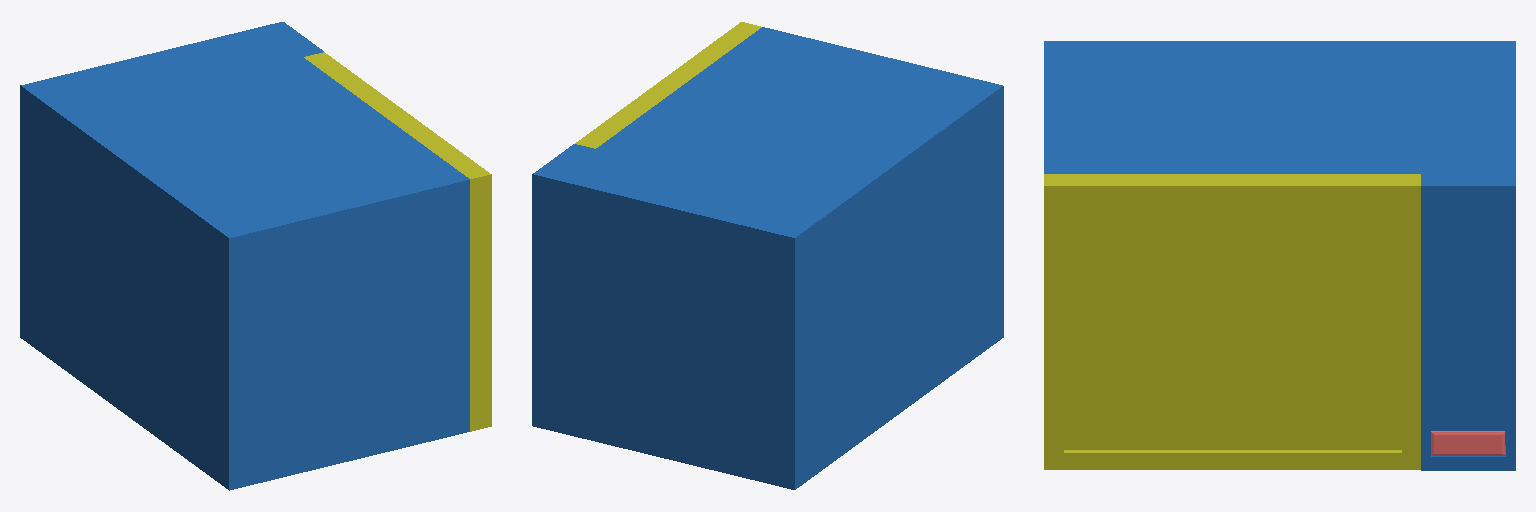
URDF robot description (microwave):
<robot name="microwave">
    <link name="body">
        <visual>
            <geometry>
                <mesh filename="package://kineverse/meshes/microwave/microwave_body.obj" scale="1 1 1"/>
            </geometry>
            <material name="mat_body">
                <color rgba="0.22 0.5 0.78 1.0"/>
            </material>
        </visual>
        <collision>
            <geometry>
                <mesh filename="package://kineverse/meshes/microwave/microwave_body.obj" scale="1 1 1"/>
            </geometry>
        </collision>
    </link>
    <link name="door">
        <visual>
            <geometry>
                <mesh filename="package://kineverse/meshes/microwave/microwave_door.obj" scale="1 1 1"/>
            </geometry>
            <material name="mat_door">
                <color rgba="0.8 0.8 0.22 1.0"/>
            </material>
        </visual>
        <collision>
            <geometry>
                <mesh filename="package://kineverse/meshes/microwave/microwave_door.obj" scale="1 1 1"/>
            </geometry>
        </collision>
    </link>
    <link name="button">
        <visual>
            <geometry>
                <mesh filename="package://kineverse/meshes/microwave/microwave_button.obj" scale="1 1 1"/>
            </geometry>
            <material name="mat_button">
                <color rgba="1.0 0.5 0.5 1.0"/>
            </material>
        </visual>
        <collision>
            <geometry>
                <mesh filename="package://kineverse/meshes/microwave/microwave_button.obj" scale="1 1 1"/>
            </geometry>
        </collision>
    </link>
    <joint name="door_joint" type="revolute">
        <origin xyz="0.15 -0.225 0.0"/>
        <parent link="body"/>
        <child  link="door"/>
        <axis   xyz="0 0 -1"/>
        <limit  lower="0" upper="1.57" velocity="100" effort="100"/>
    </joint>
    <joint name="button_joint" type="prismatic">
        <origin xyz="0.1768 0.18 -0.1222"/>
        <parent link="body"/>
        <child  link="button"/>
        <axis   xyz="1 0 0"/>
        <limit lower="-0.02" upper="0.0" velocity="2.0" effort="100"/>
    </joint>
</robot>

--- Facts derived from the render (not from the file) ---
The picture shows the robot from 3 angles, left to right: view 1: azimuth 30°, elevation 25°; view 2: azimuth 150°, elevation 25°; view 3: azimuth 270°, elevation 25°; orthographic projection.
Robot: microwave — 3 links, 2 joints (1 revolute, 1 prismatic); root link body; default pose: every joint at zero.
Links seen in each view (by area): view 1: body, door; view 2: body, door; view 3: door, body, button.
Boxes of the visible links, box(x1,y1,x2,y2) form: body: box(20, 22, 469, 490); door: box(304, 52, 491, 431); body: box(532, 27, 1003, 489); door: box(575, 22, 761, 148); door: box(1044, 174, 1420, 469); body: box(1044, 41, 1515, 470); button: box(1431, 431, 1504, 455).
Bounding box of the posed robot: 0.3275 × 0.45 × 0.305 m (x, y, z).
Meshes: 3 distinct files referenced, 3 mesh visuals loaded (3 OBJ).